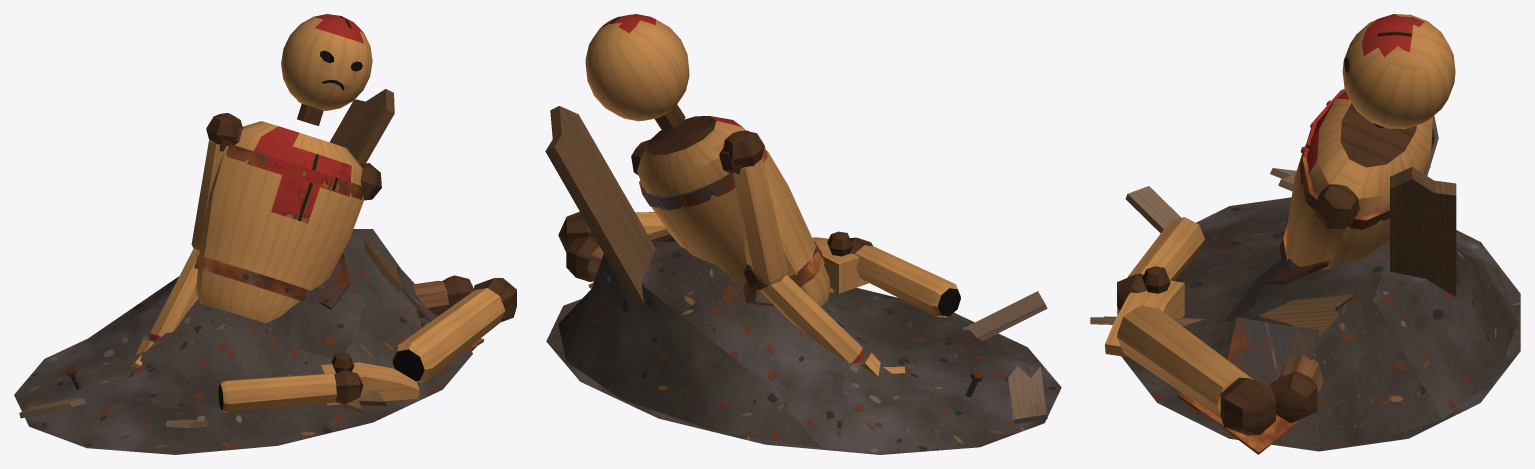
The model's file is Half_Puppet.glb.
The picture shows the model from 3 angles, left to right: view 1: azimuth 30°, elevation 25°; view 2: azimuth 150°, elevation 25°; view 3: azimuth 270°, elevation 25°; orthographic projection. The views are drawn at different scales.
Visible parts, largest first — view 1: Half_Puppet; view 2: Half_Puppet; view 3: Half_Puppet.
Part boxes in pixels (x1=…): Half_Puppet: x1=14, y1=14, x2=516, y2=454; Half_Puppet: x1=545, y1=14, x2=1061, y2=454; Half_Puppet: x1=1090, y1=14, x2=1520, y2=454.
Size of the model in its own units: 1.39 by 0.9384 by 0.9085.
Materials: 11 (10 with a texture image).
